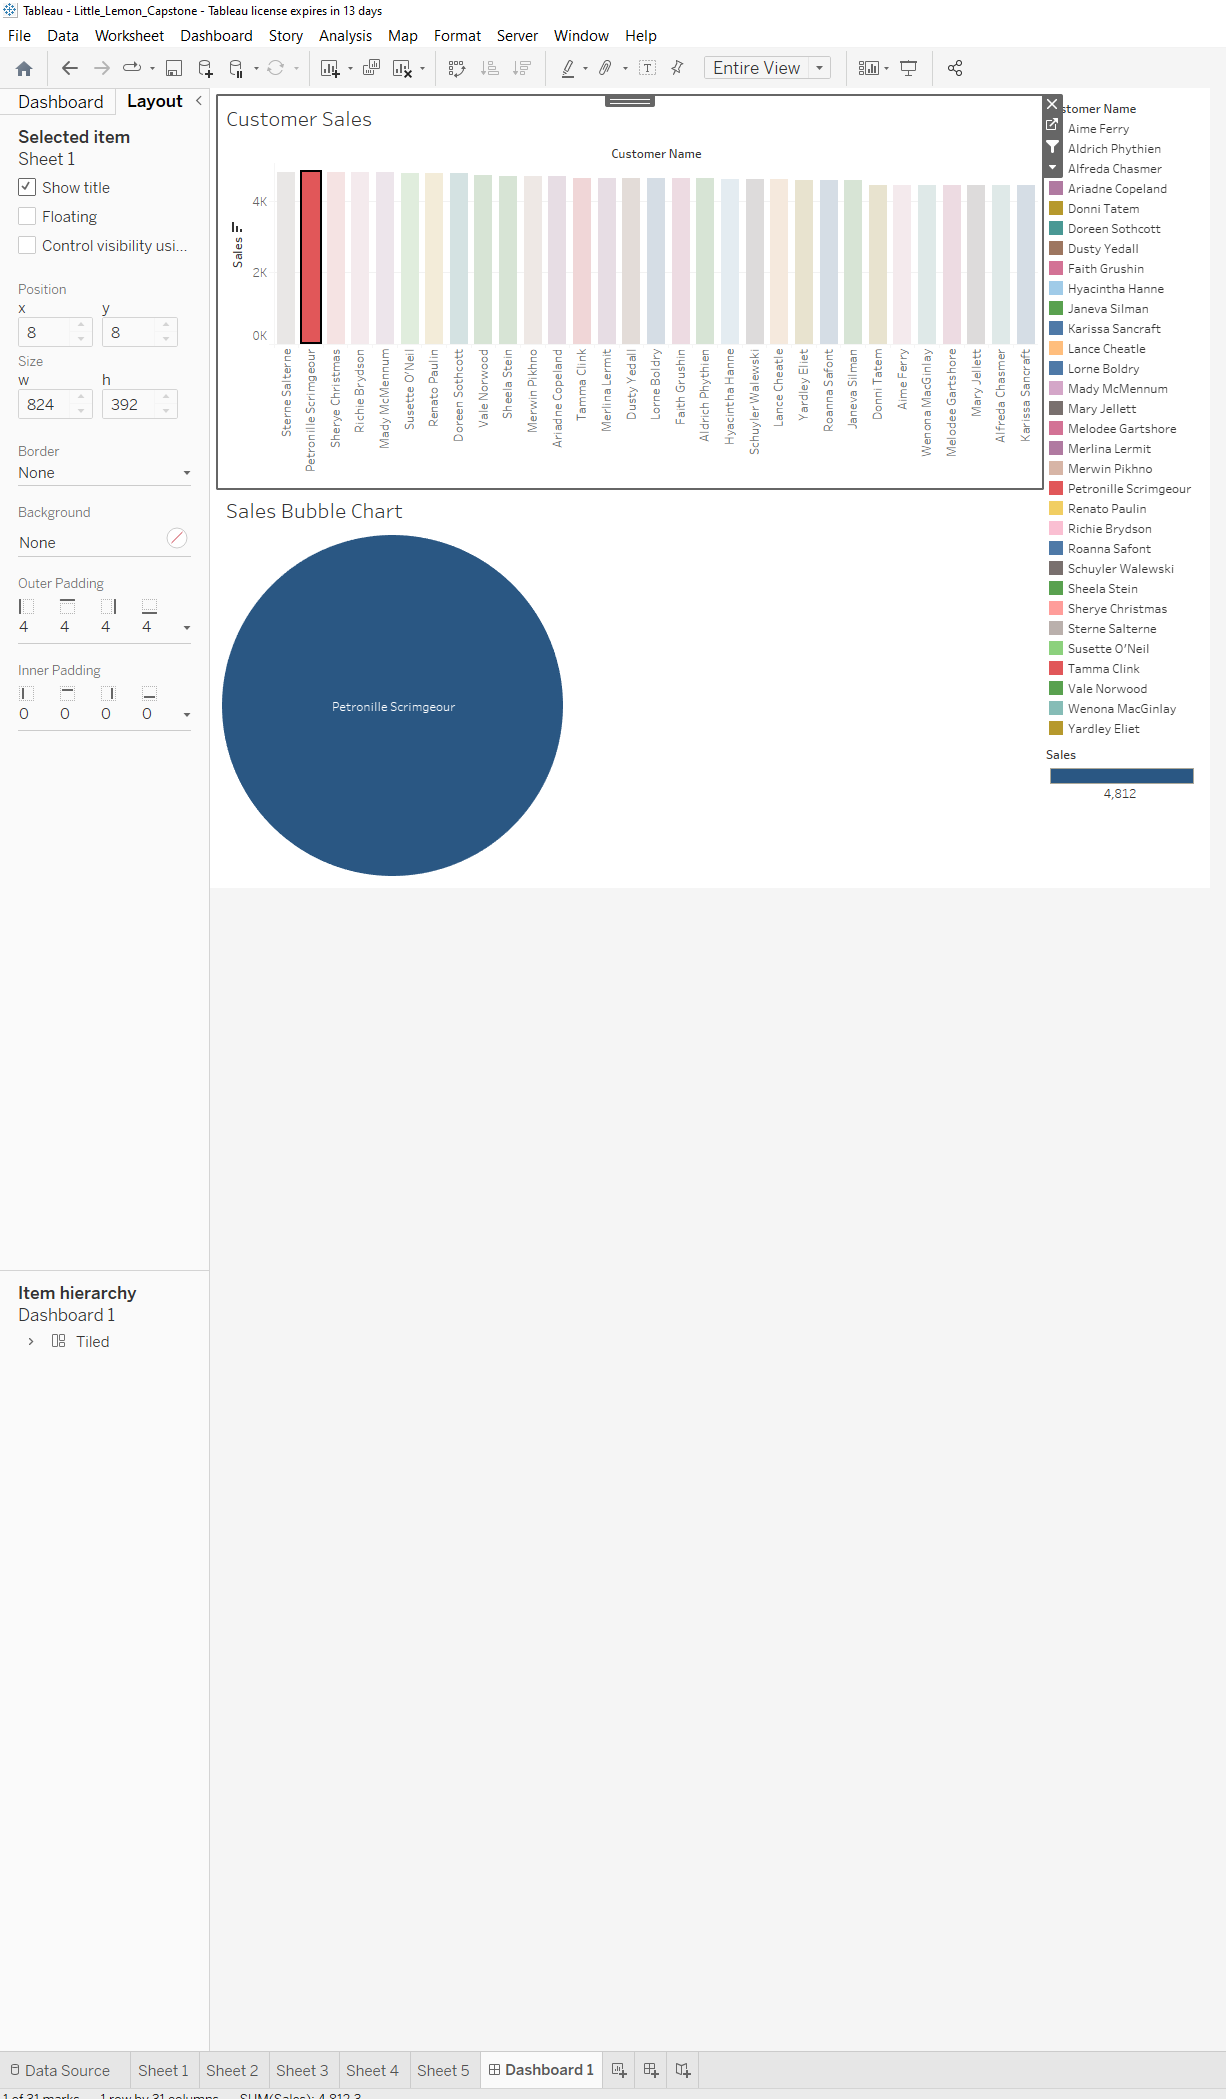

The dashboard page shown, as its layout file describes it:
{"tool":"tableau","page":{"name":"Dashboard 1","canvas":[1000,800],"ordinal":0},"visuals":[{"type":"worksheet","title":"Sheet 1","mark":"Automatic","rows":["Sales"],"cols":["Customer Name"],"box":[8,8,824,392]},{"type":"legend","title":"Sheet 1","param":"[federated.1bpmsph0wdrk0e1ev189e0g5r1jm].[none:Customer Name:nk]","box":[832,8,160,646]},{"type":"worksheet","title":"Sheet 3","mark":"Circle","box":[8,400,824,392]},{"type":"legend","title":"Sheet 3","param":"[federated.1bpmsph0wdrk0e1ev189e0g5r1jm].[sum:Sales:qk]","box":[832,654,160,65]}]}

Visuals, with their boxes on the page's 1000x800 design canvas (x1, y1, x2, y2). These are canvas units, not pixel positions in the 1226x2099 screenshot, which may show the page scaled, cropped or inside an application window:
"Sheet 1" worksheet: (8, 8, 832, 400)
"Sheet 1" legend: (832, 8, 992, 654)
"Sheet 3" worksheet (Circle marks): (8, 400, 832, 792)
"Sheet 3" legend: (832, 654, 992, 719)
